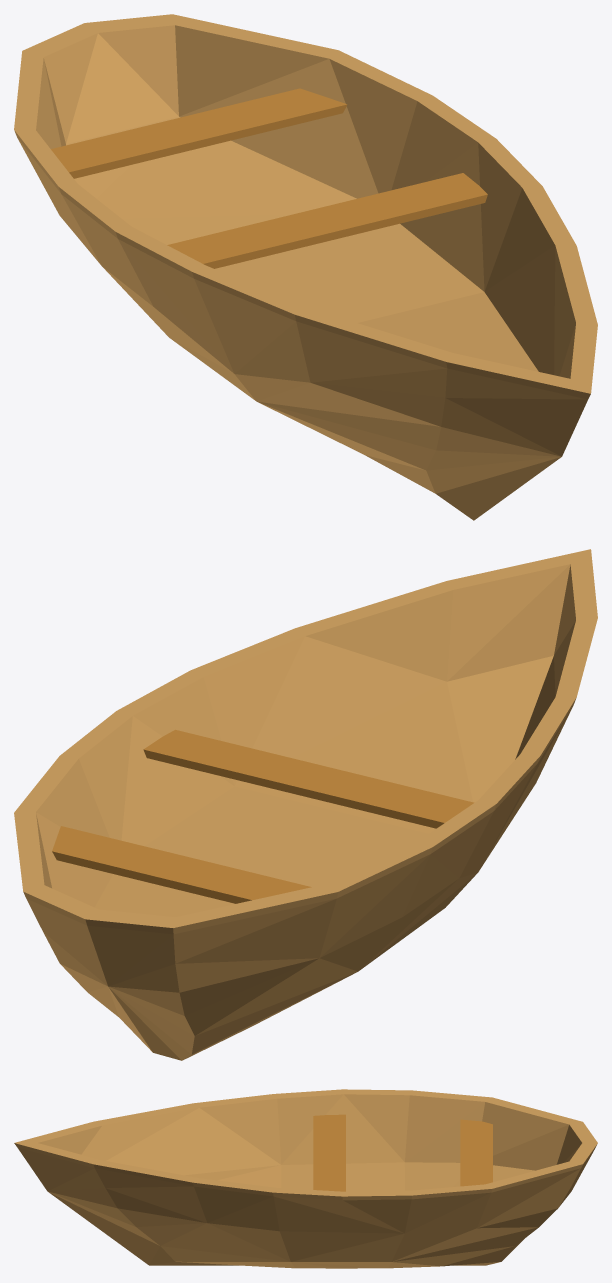
Rendered from rowboat_01_d.fbx.
The picture shows the model from 3 angles, top to bottom: view 1: azimuth 30°, elevation 25°; view 2: azimuth 150°, elevation 25°; view 3: azimuth 270°, elevation 25°; orthographic projection. The views are drawn at different scales.
Visible parts, largest first — view 1: RowBoat_01_d; view 2: RowBoat_01_d; view 3: RowBoat_01_d.
Boxes of the visible parts, x1,y1,x2,y2 form: RowBoat_01_d: (14,14,597,520); RowBoat_01_d: (14,549,597,1060); RowBoat_01_d: (14,1089,597,1268).
Bounding box in the file's own units: 65.82 × 152 × 35.11.
